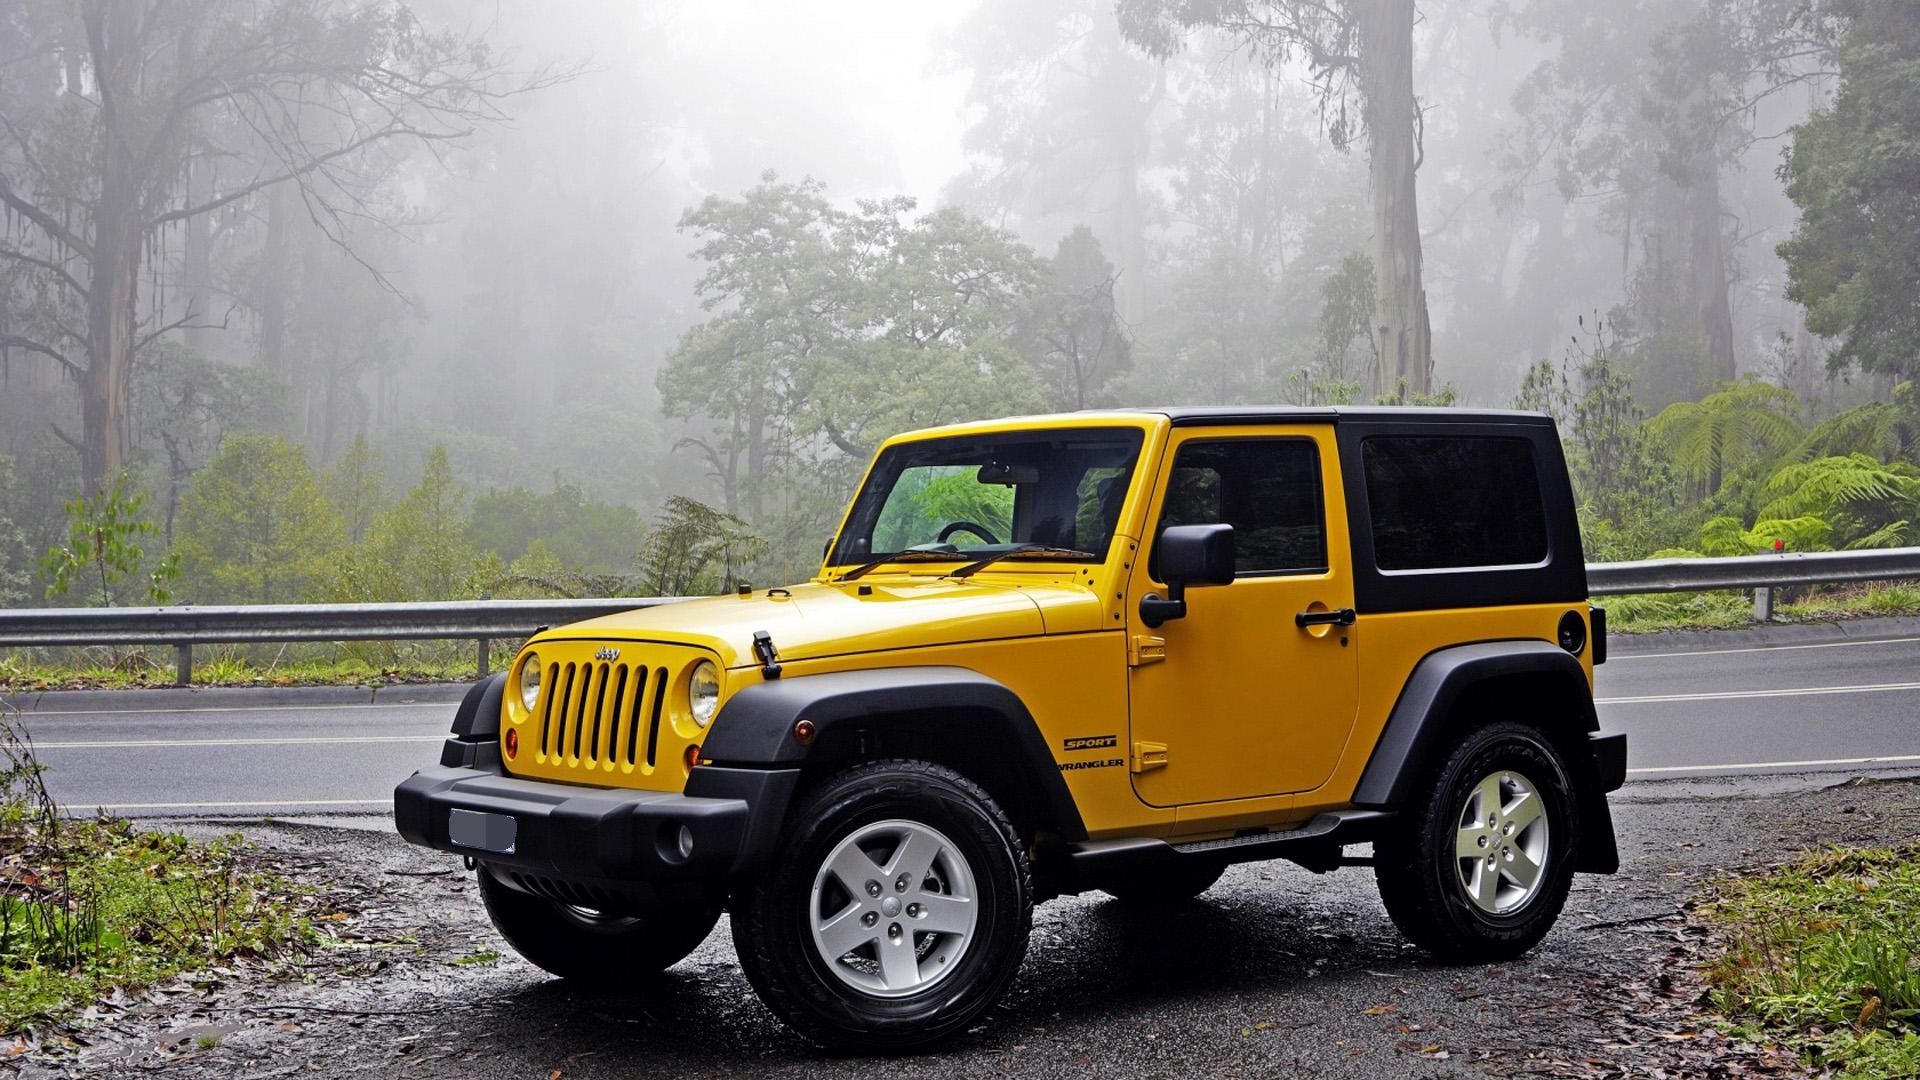jeep: (386, 381, 1634, 1023)
